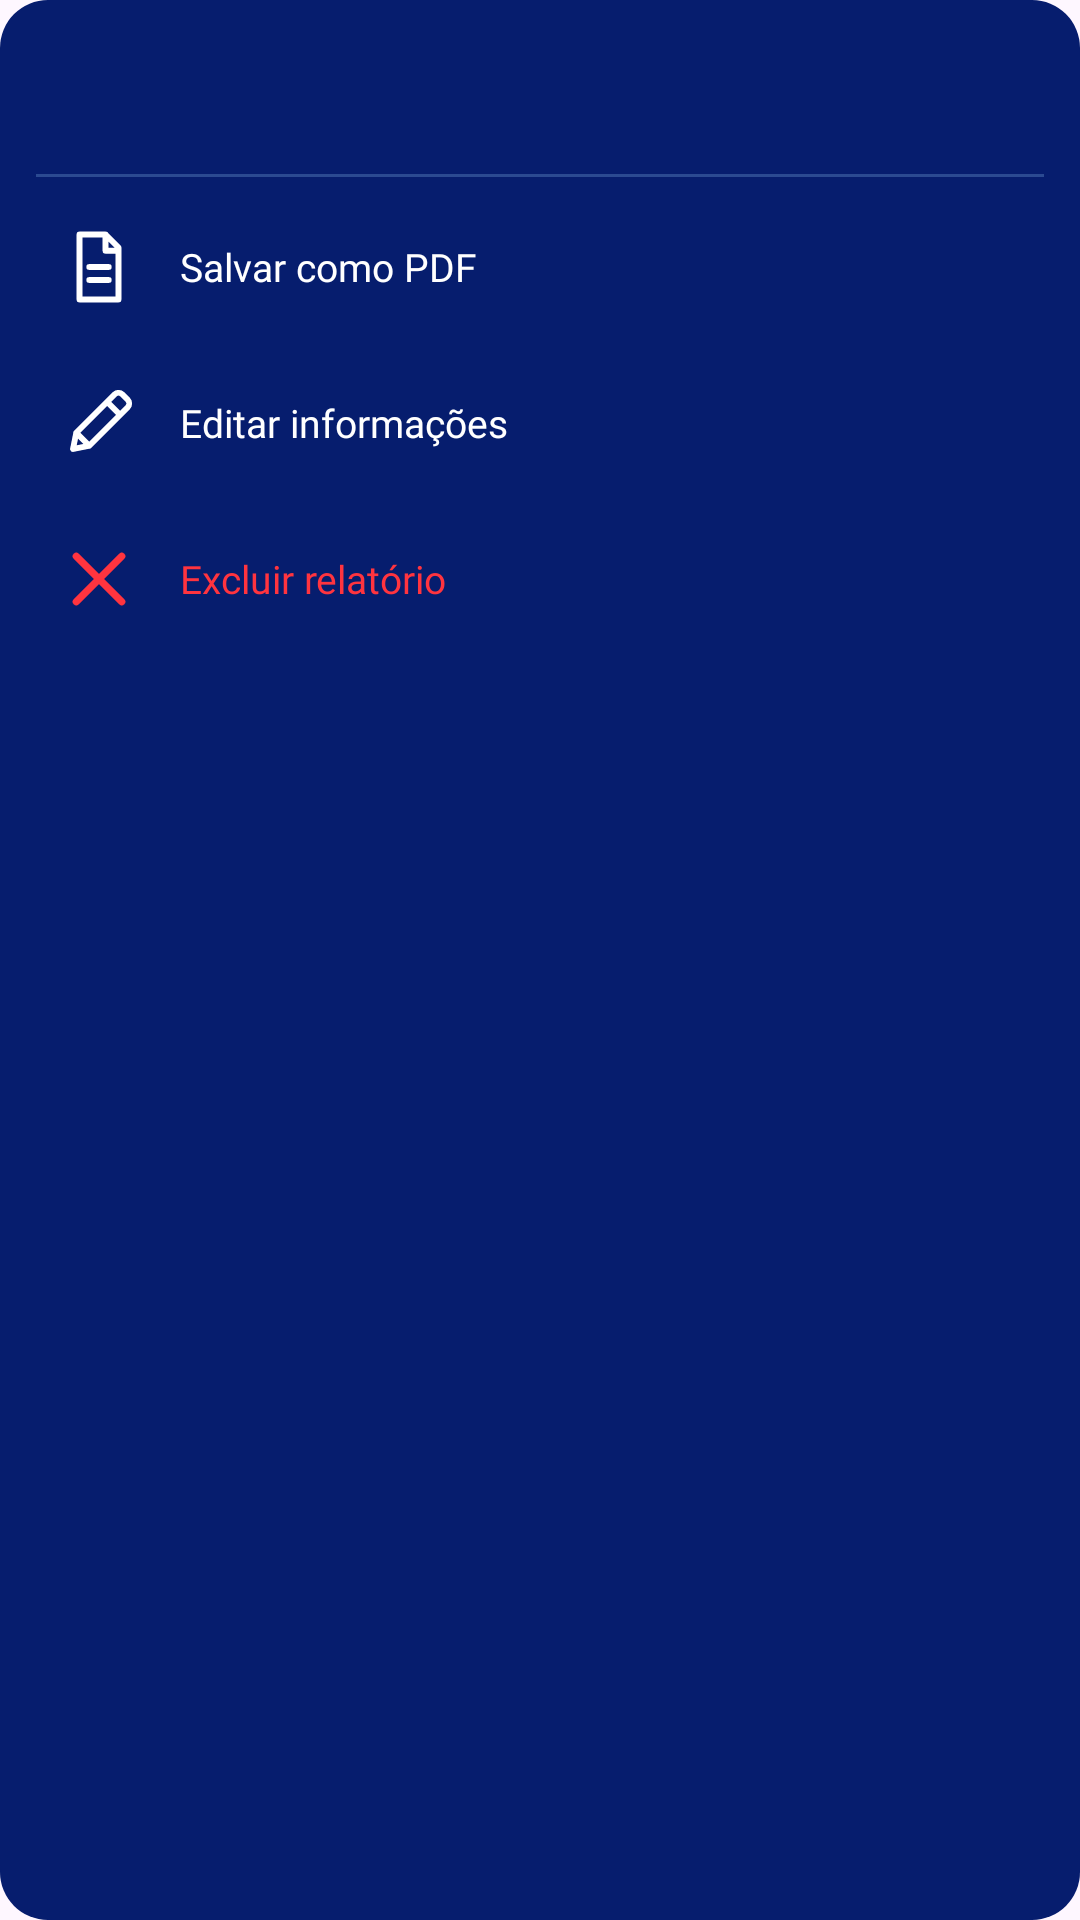

Named icons in this screenshot (1080×1920) and their centers, [x,y]:
report delete: [99,579]
report edit: [101,421]
report pdf: [99,267]
